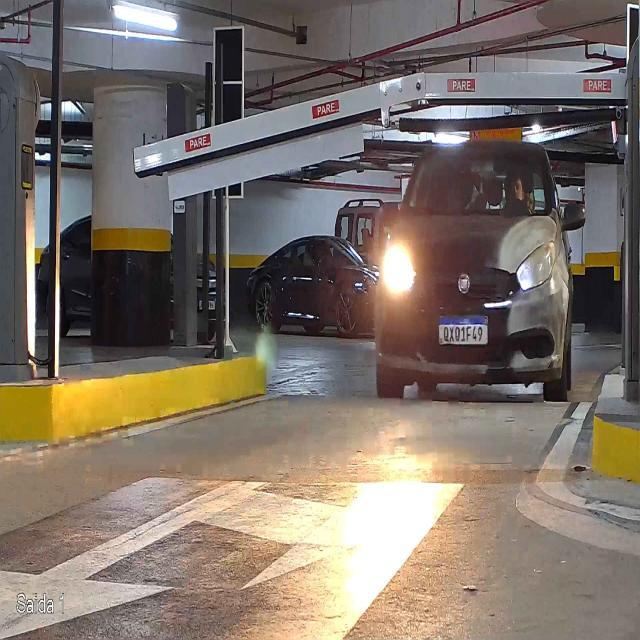mercosul_plate: (438, 314, 489, 346)
